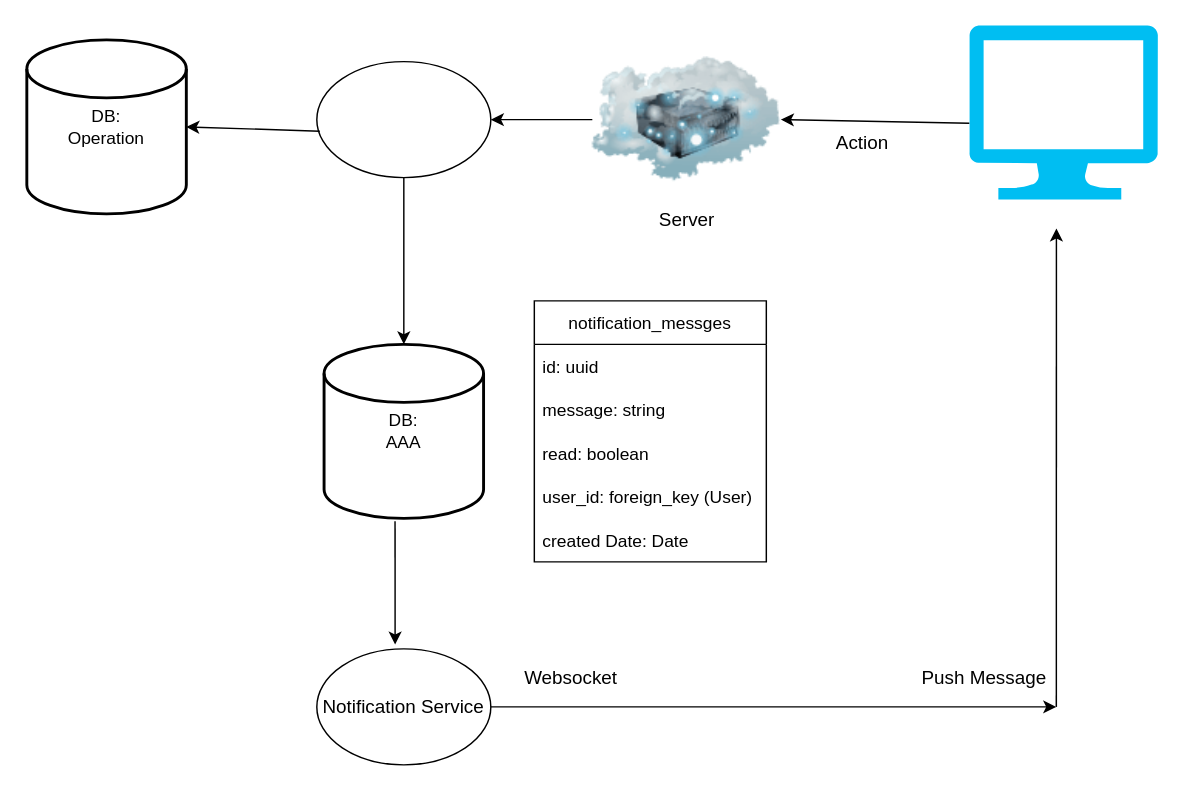
This 1182x790 diagram has some shape labels left out. The box of each missing label's shape, as (x1, y1, x2, y2) in pixels:
Create, Delete, Update Operation: (315, 60, 491, 178)
User: (969, 25, 1157, 199)
